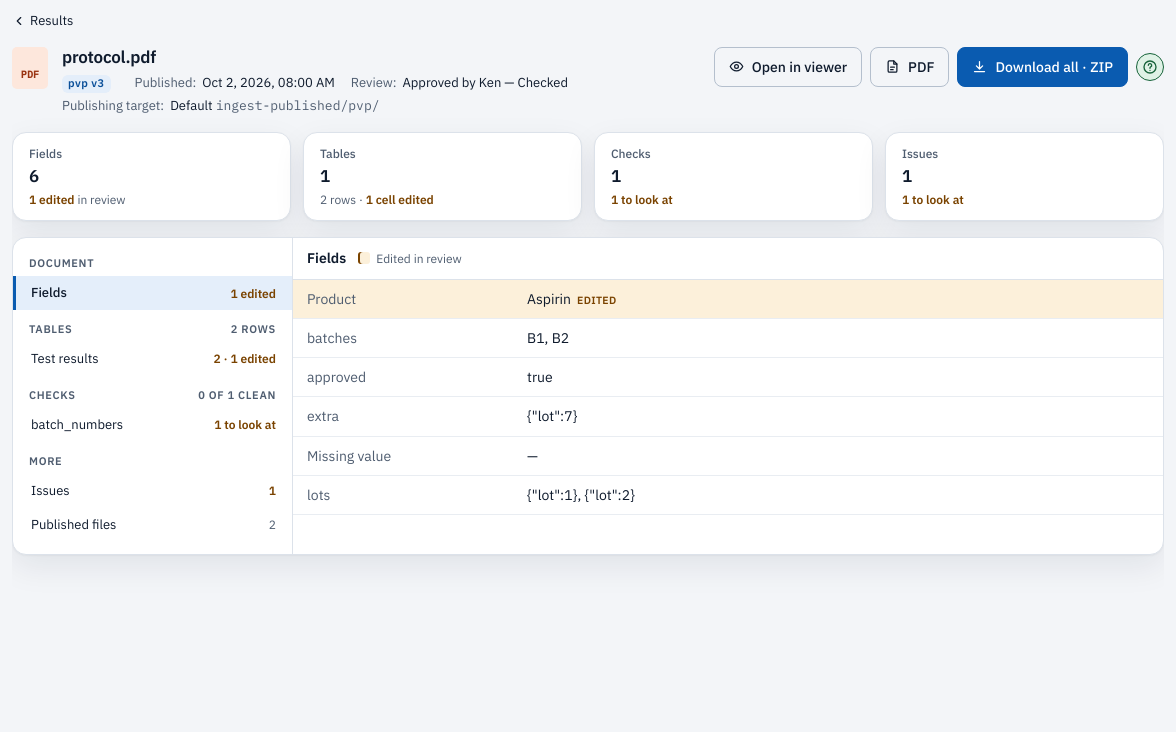
ResultDetailView › shows a check plugin's message in the check view
Step 1. Click the button "batch_numbers 1 to look at" → click(77, 424), box [13, 408, 292, 442]
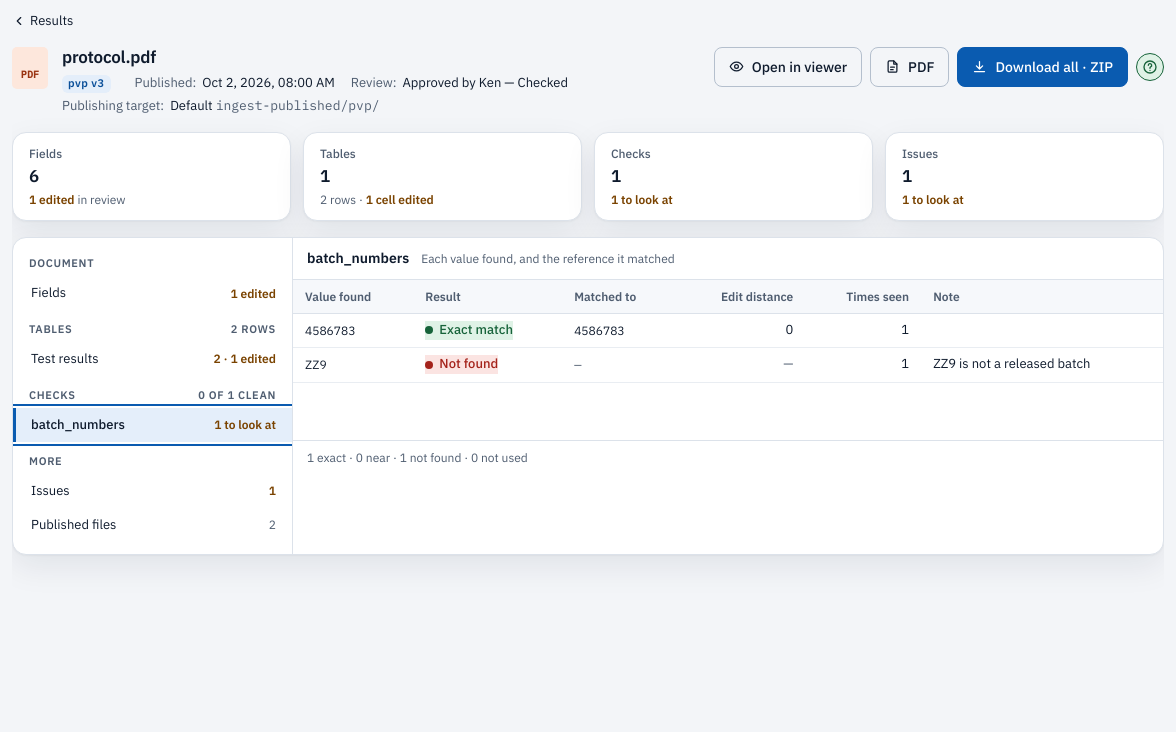
Result: the row "ZZ9 Not found — — 1 ZZ9 is not a released batch" is shown at [293, 348, 1163, 383]
Result: the column heading "Note" is shown at [921, 280, 1163, 314]
